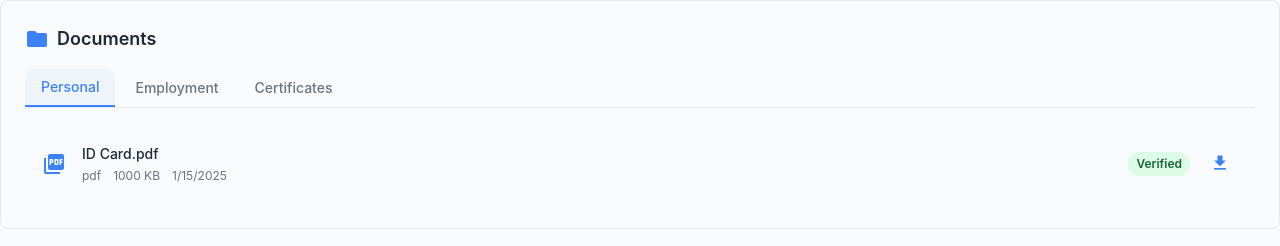
Scenario: DocumentsSection › filters documents by category
Expected: the text "ID Card.pdf" is shown, [82,145,158,162]
Note: Click on Employment tab
Click the tab "Employment".
click(177, 88)  # box [119,69,235,107]
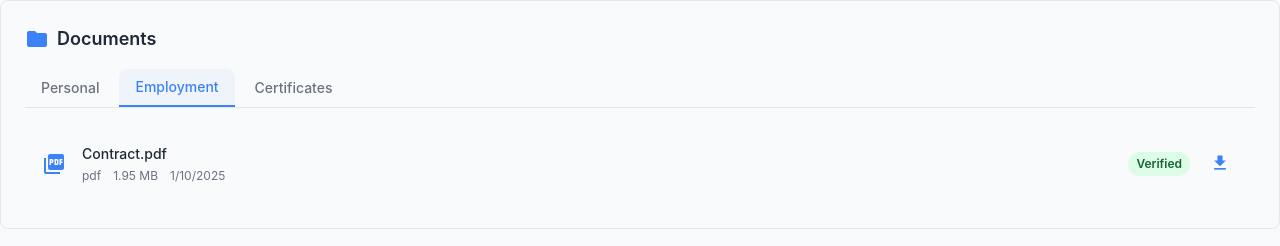
Result: the text "Contract.pdf" is shown at [82,145,167,162]
Result: the text "ID Card.pdf" is gone
